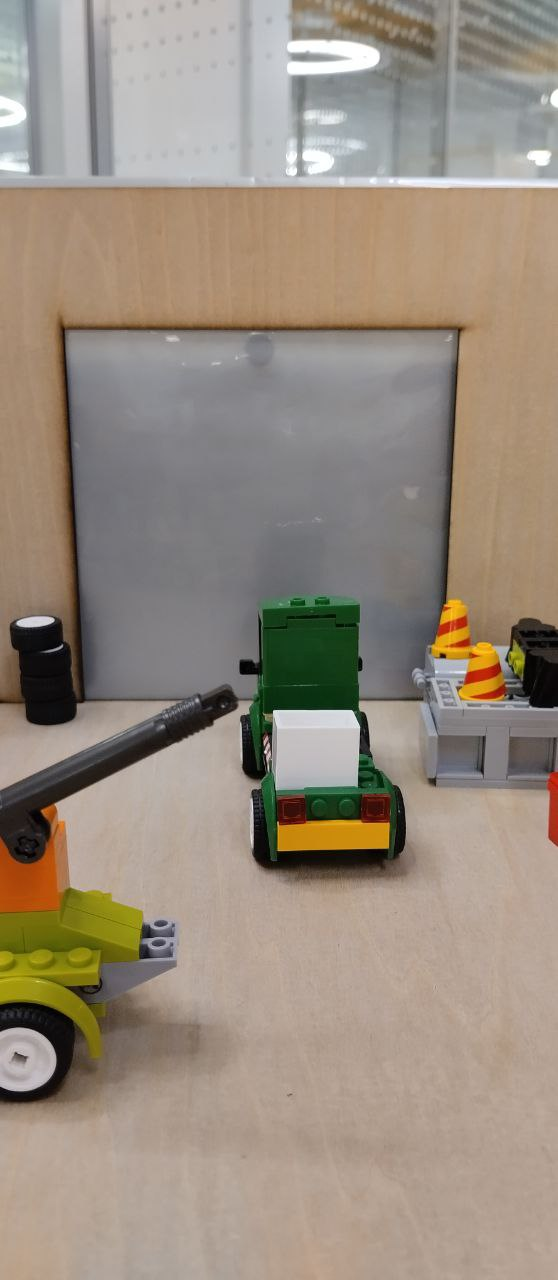Cone: (429, 600, 474, 659), (463, 644, 505, 701)
Crane: (1, 690, 238, 1103)
Object Black: (503, 617, 558, 708)
Object Red: (547, 772, 557, 846)
Truck: (246, 599, 411, 879)
